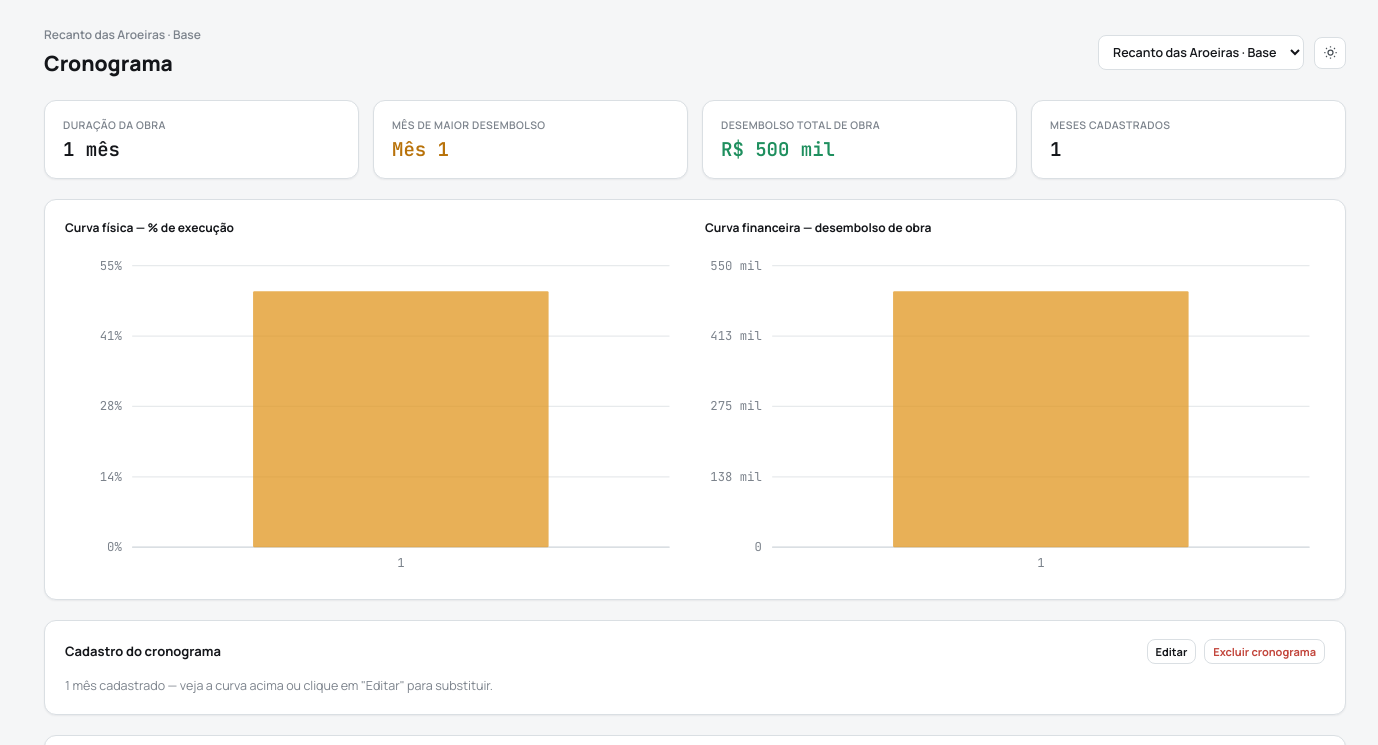
Test: CronogramaPage › trocar de cenário não deixa a curva do cenário anterior visível
Select "Torres Alto Padrão · Base" in the dropdown at (1201,53), box [1098,35,1304,70]
(page scrolled)
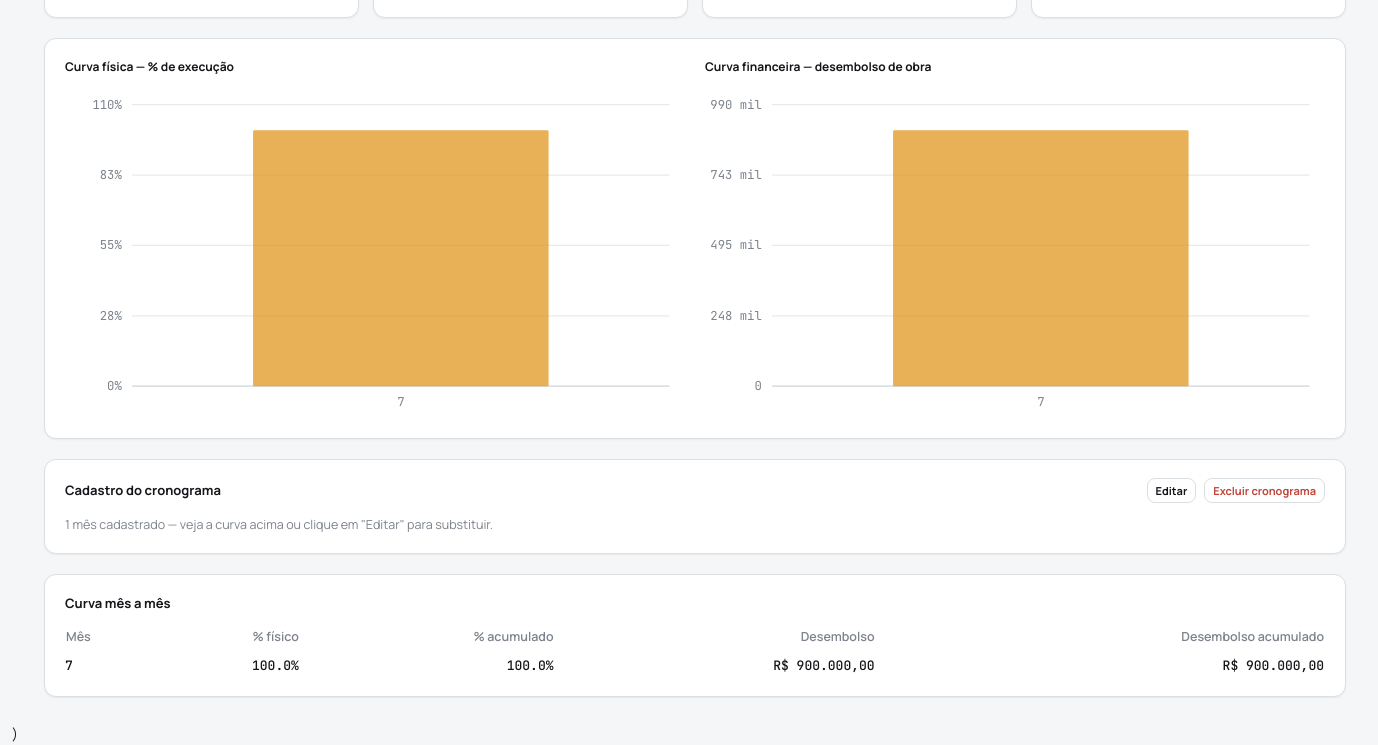
Now the 1st text "R$ 900.000,00" is shown, box [554,653,876,678]
